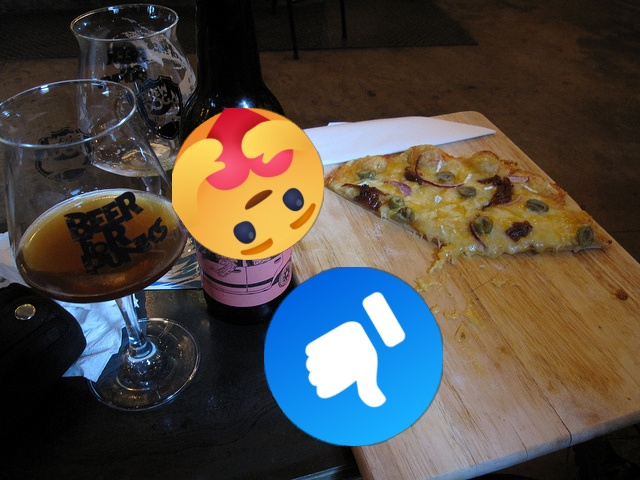care: (172, 108, 324, 260)
like: (264, 267, 443, 446)
